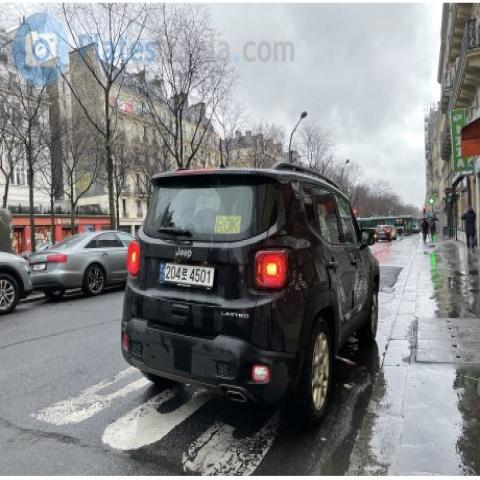LP: (148, 254, 224, 300)
